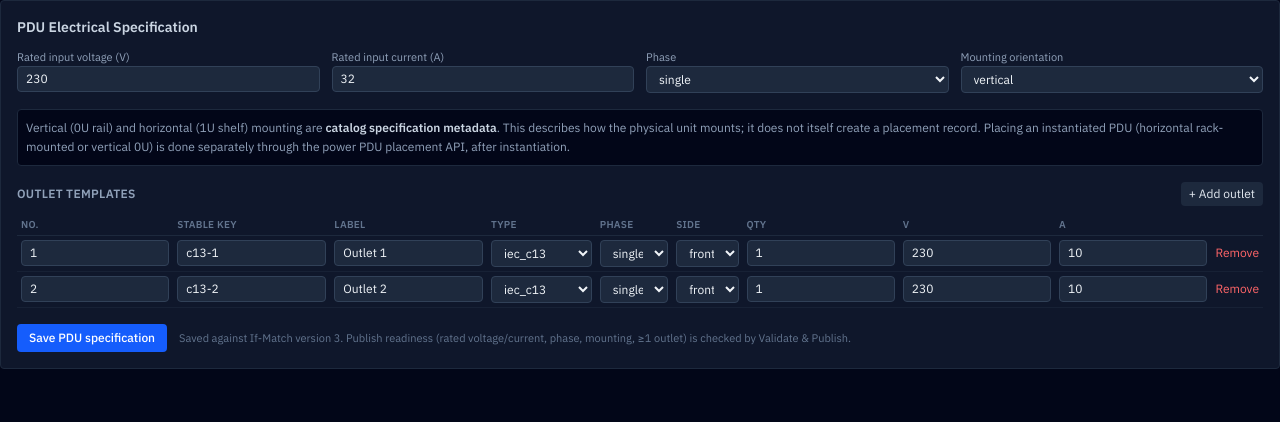
PduSpecPanel › adds and removes outlet rows
The width and height of the screenshot is (1280, 422).
Click the button "+ Add outlet".
click(1222, 194)  # box 1181,182 -> 1263,206
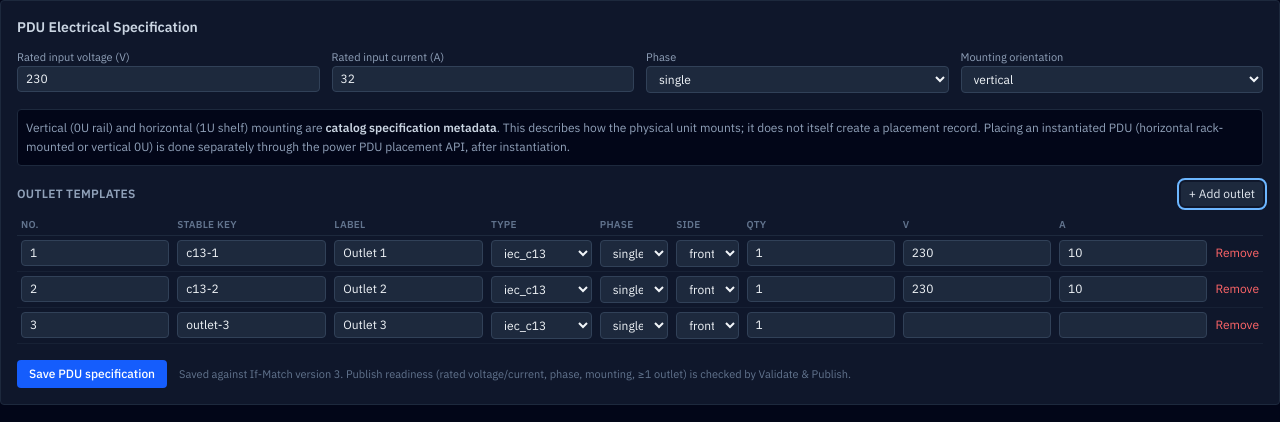
Now the number of rows with test id "pdu-outlet-row" is 3, box 17,235 -> 1263,271; 17,271 -> 1263,307; 17,307 -> 1263,343
Now the field named "Outlet 3 label" holds "Outlet 3", box 334,312 -> 483,338
Now the field named "Outlet 3 stable key" holds "outlet-3", box 177,312 -> 326,338
Click the button with aria-label "Remove outlet 3".
click(1237, 325)  # box 1215,317 -> 1259,333
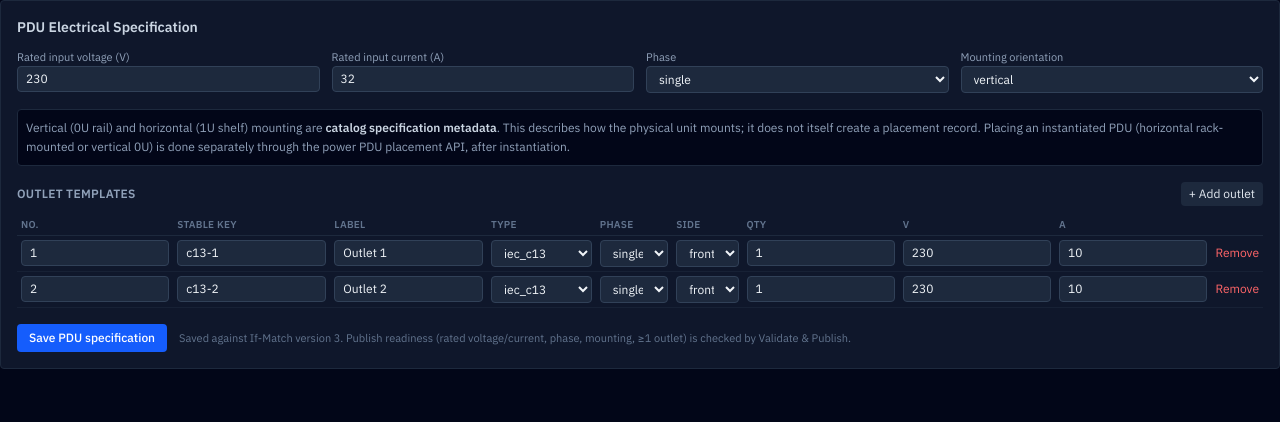
Now the number of rows with test id "pdu-outlet-row" is 2, box 17,235 -> 1263,271; 17,271 -> 1263,307
